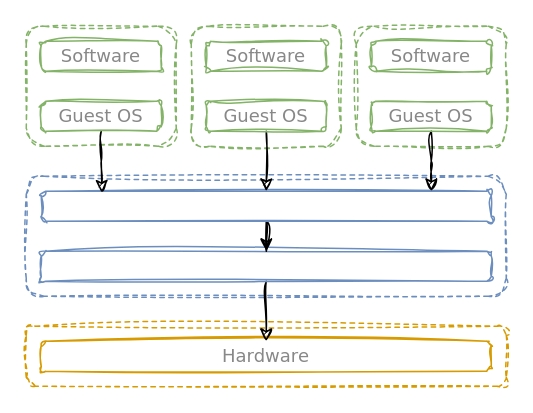
The diagram is 533 pixels wide and 413 high, and some of its shapes have lost their labels. The shapes that lost their labels are listed below. From the top down, each one's box as (x1, y1, x2, y2) in pixels, then its label:
(40, 190, 491, 221): Hypervisor
(40, 250, 491, 281): Host Operating System
